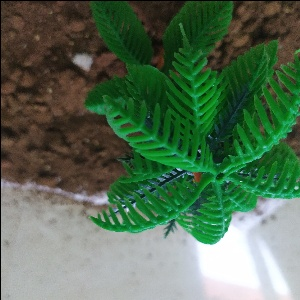plant: (81, 1, 300, 244)
